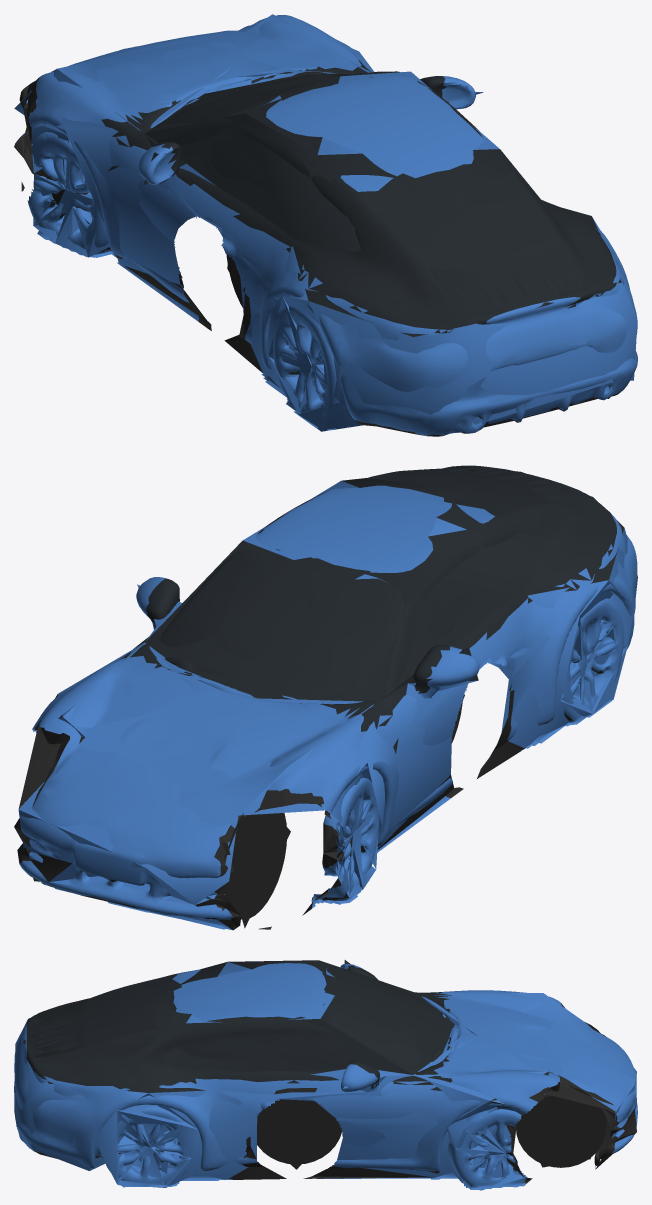
File: porsche-911.glb
The picture shows the model from 3 angles, top to bottom: view 1: azimuth 30°, elevation 25°; view 2: azimuth 150°, elevation 25°; view 3: azimuth 270°, elevation 25°; orthographic projection. The views are drawn at different scales.
Visible parts, largest first — view 1: body, far; view 2: body, far; view 3: body, far.
Part boxes in pixels (x1,y1,x2,y2): body: (14,15,637,436); far: (14,14,637,431); body: (14,465,637,930); far: (18,467,637,929); body: (14,963,637,1189); far: (14,960,636,1190).
Bounding box in the file's own units: 2.06 × 1.25 × 4.53.
